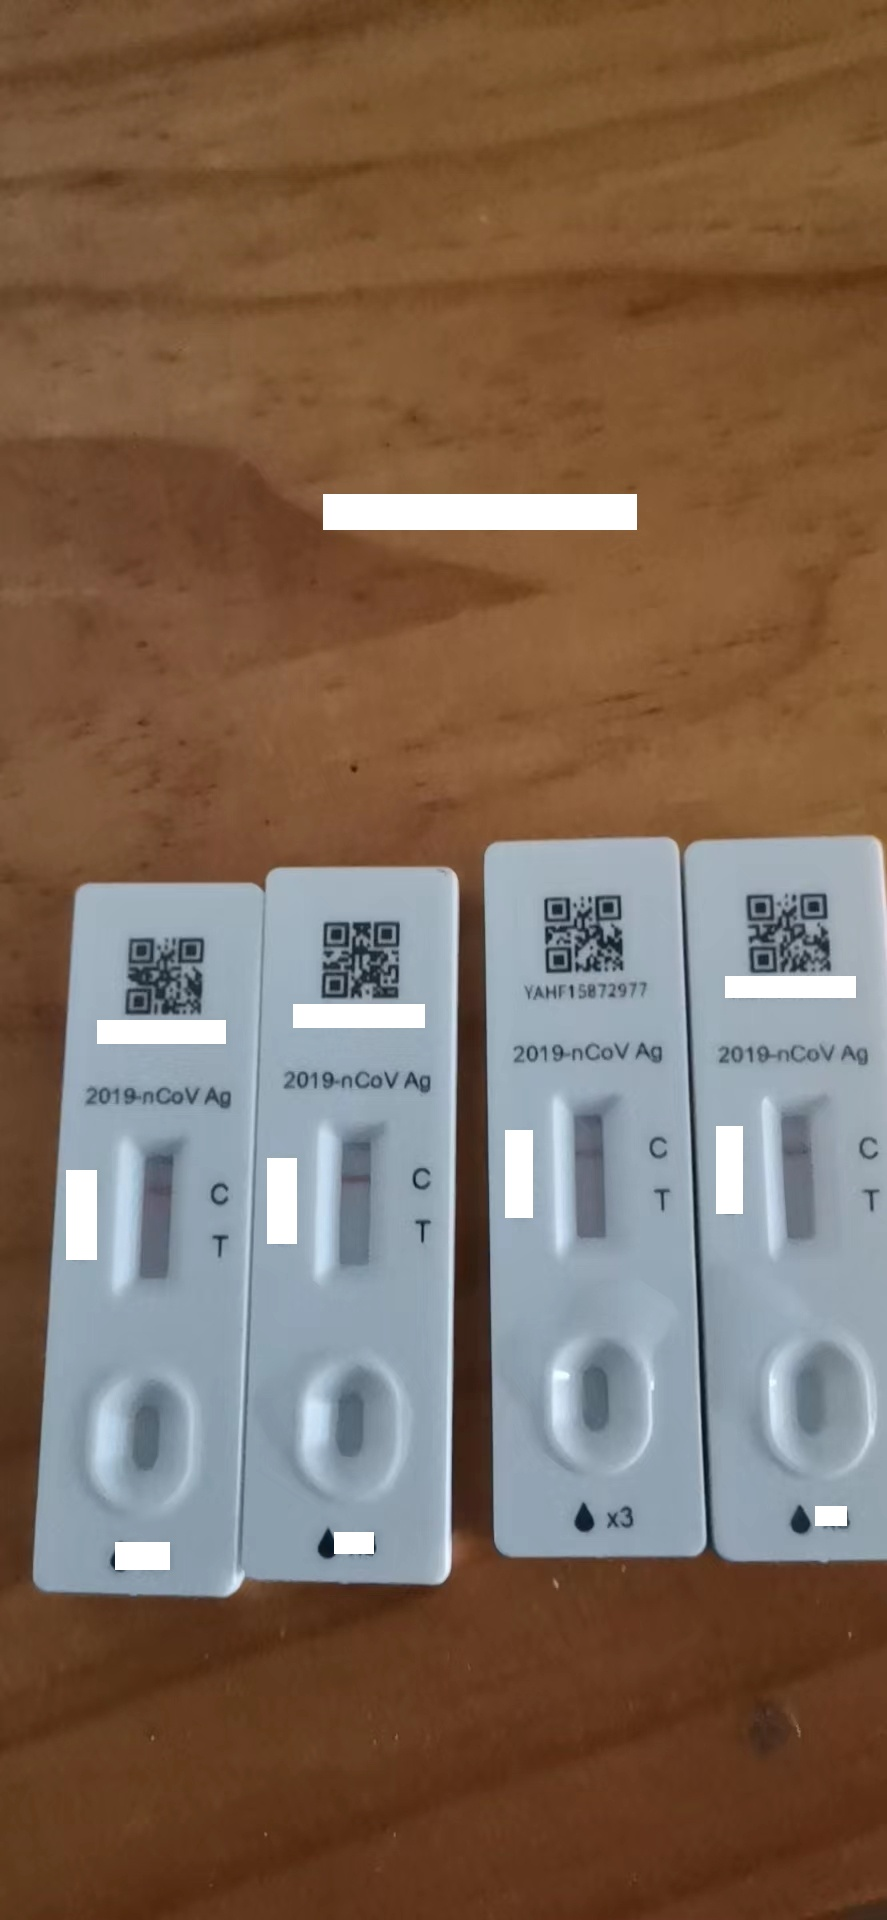negative: (319, 1120, 385, 1286), (766, 1093, 831, 1251), (121, 1139, 184, 1293), (559, 1095, 620, 1250)
